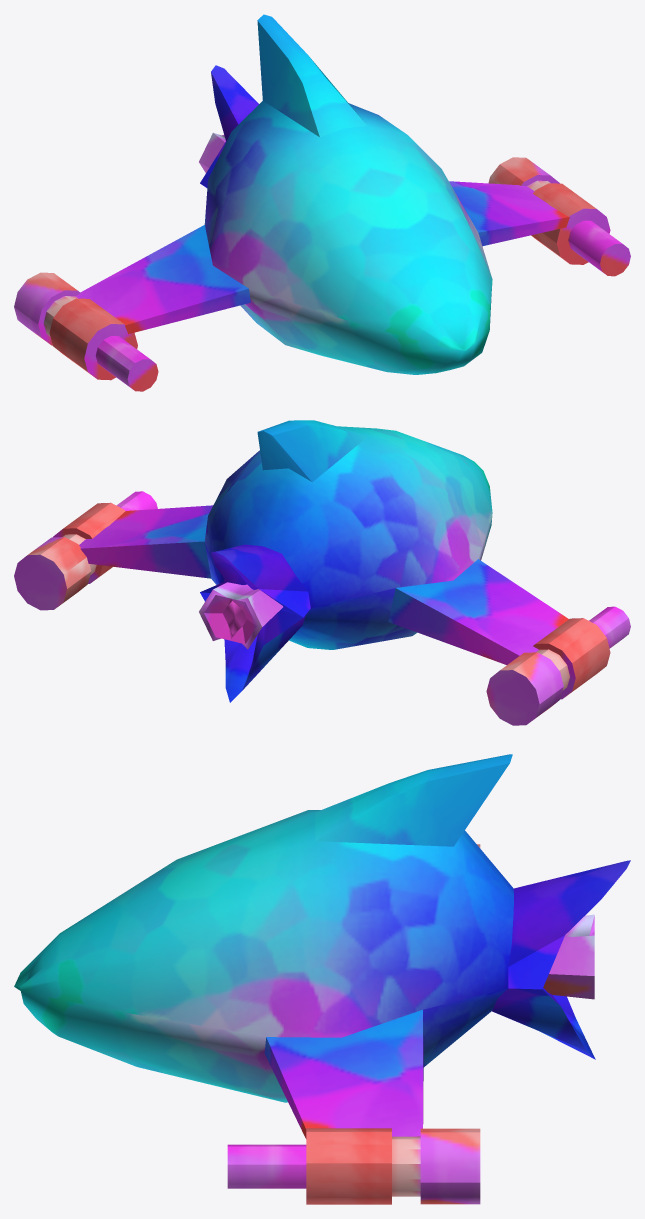
Rendered from Player_mesh_final-2.FBX.
The picture shows the model from 3 angles, top to bottom: view 1: azimuth 30°, elevation 25°; view 2: azimuth 150°, elevation 25°; view 3: azimuth 270°, elevation 25°; orthographic projection. The views are drawn at different scales.
Visible parts, largest first — view 1: Player; view 2: Player; view 3: Player.
Boxes of the visible parts, left/top/right/bottom form: Player: left=14, top=14, right=630, bottom=391; Player: left=14, top=420, right=630, bottom=725; Player: left=14, top=754, right=630, bottom=1204.
Bounding box in the file's own units: 274 × 136 × 226.
